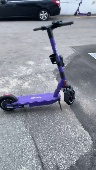beam: (1, 19, 77, 113)
